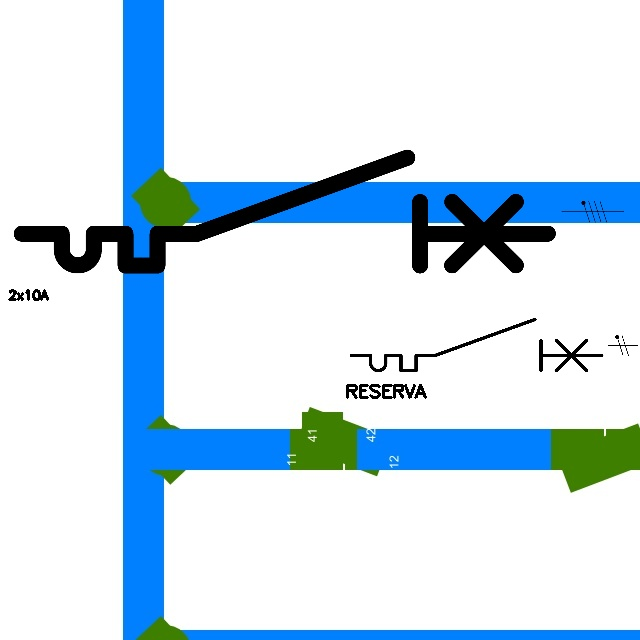interruptor_termomagnetico: (8, 144, 561, 279), (345, 313, 608, 377)
